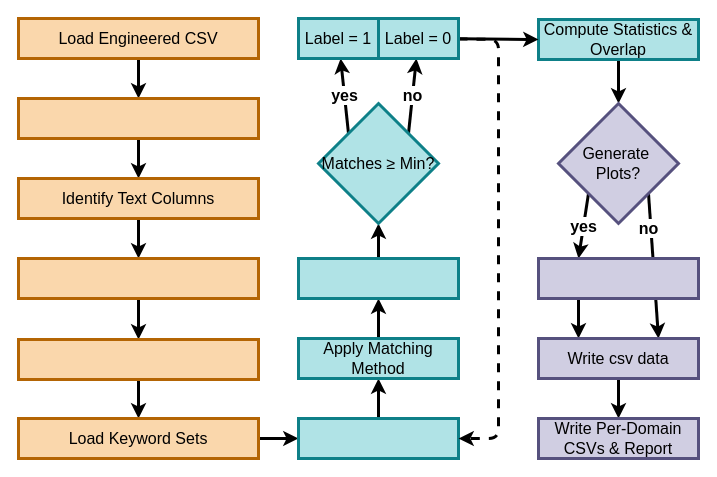
This 717x477 diagram has some shape labels left out. The shapes that lost their labels are listed below. From the top down, each one's centre as x and y in pixels, then its label:
the point at 138,118: Load Domain Config
the point at 138,278: Concatenate Text Fields
the point at 378,278: Count Keyword Matches
the point at 618,278: Heatmaps & Violin Plots
the point at 138,359: Normalize Text
the point at 378,438: Iterate Over Domains
